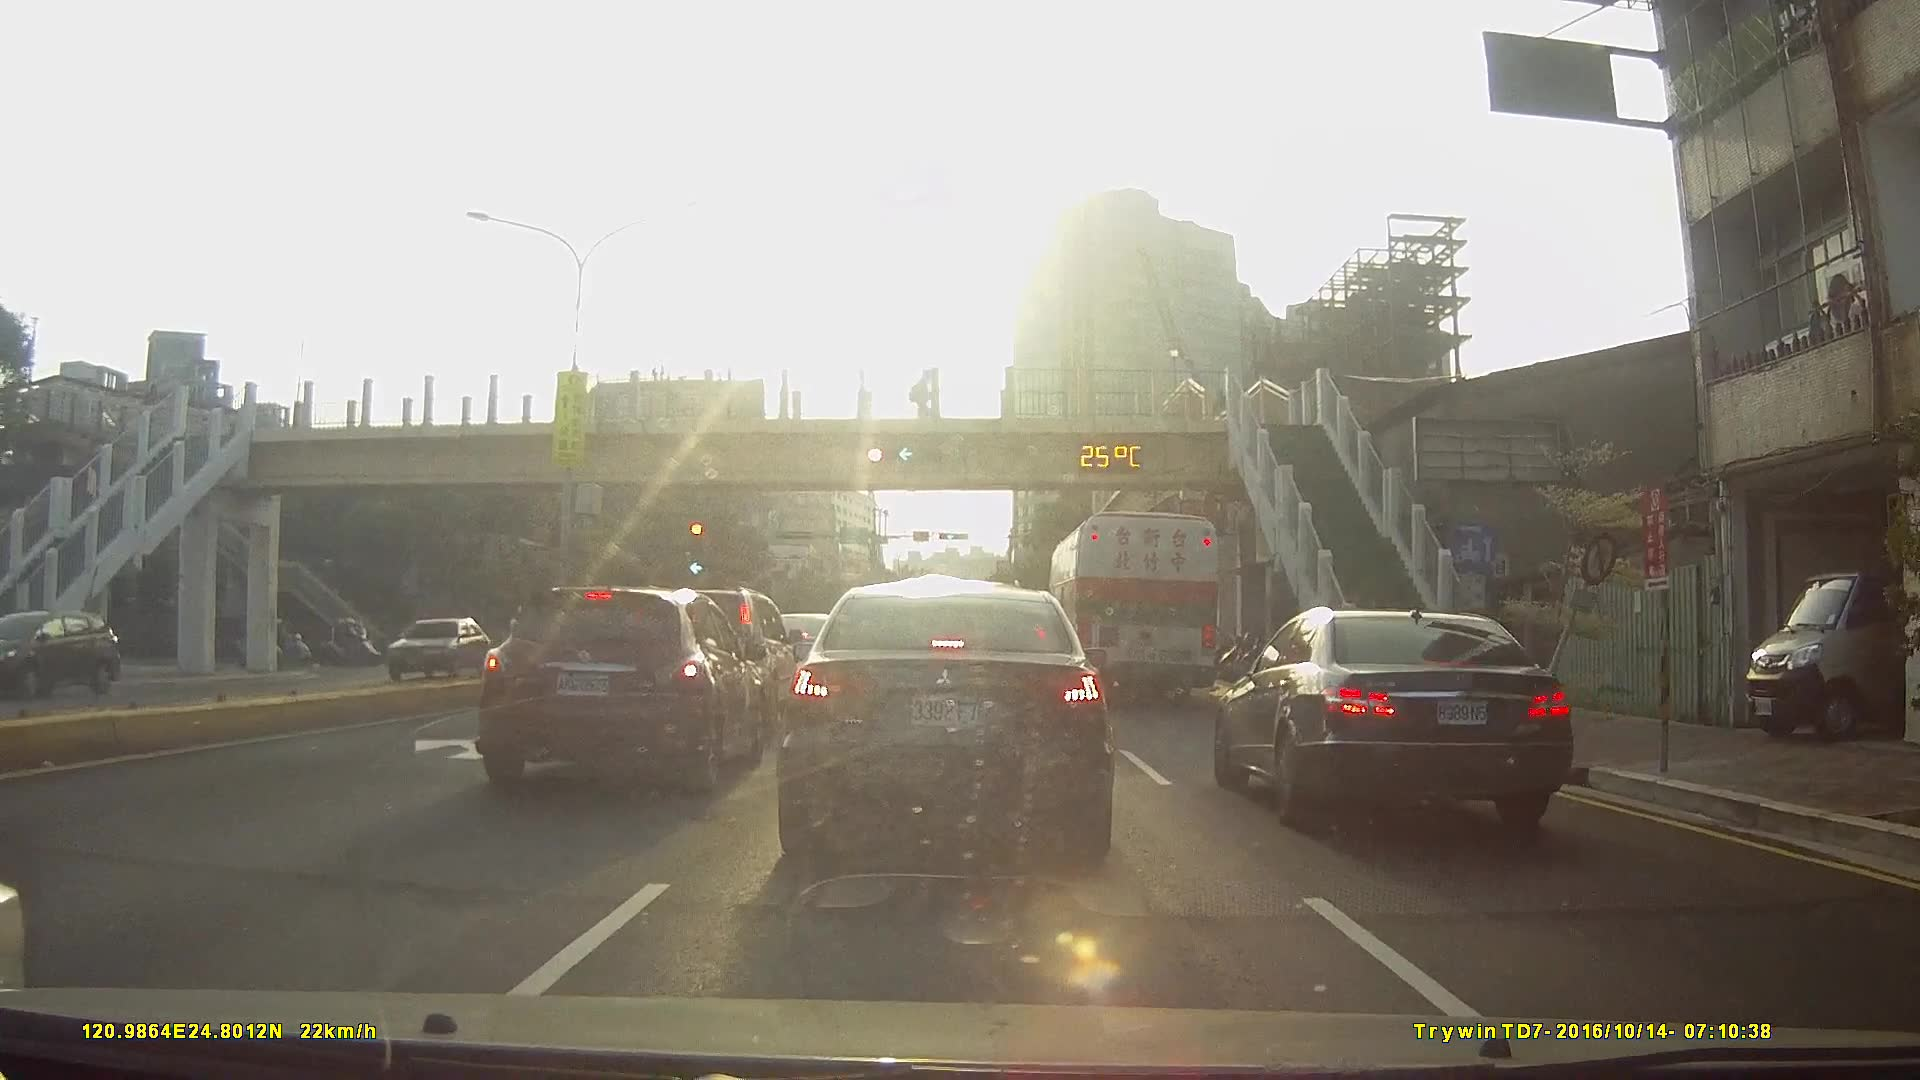pedestrian: (913, 370, 935, 418)
rider: (321, 615, 389, 670)
vehicle: (771, 578, 1119, 862), (1208, 600, 1569, 832), (468, 580, 768, 794), (1048, 509, 1221, 701), (0, 608, 118, 701), (376, 616, 487, 680)
